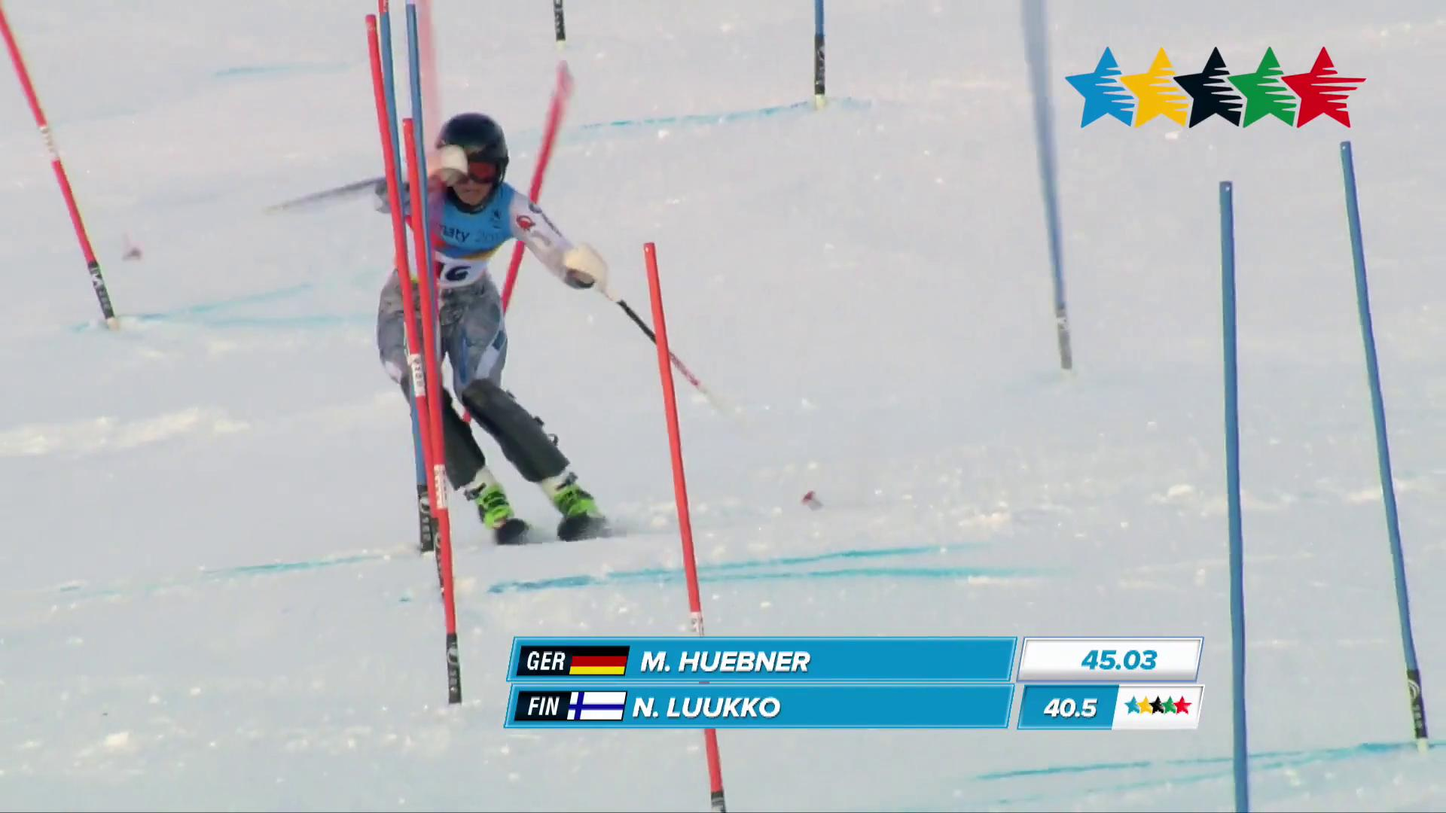gate: (1340, 142, 1428, 751), (0, 5, 117, 328), (401, 118, 461, 703), (644, 242, 705, 636), (1020, 0, 1073, 371), (1219, 181, 1249, 812), (704, 729, 725, 812)
